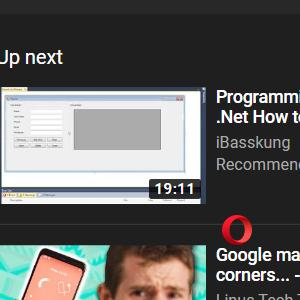opera: (221, 214, 253, 245)
